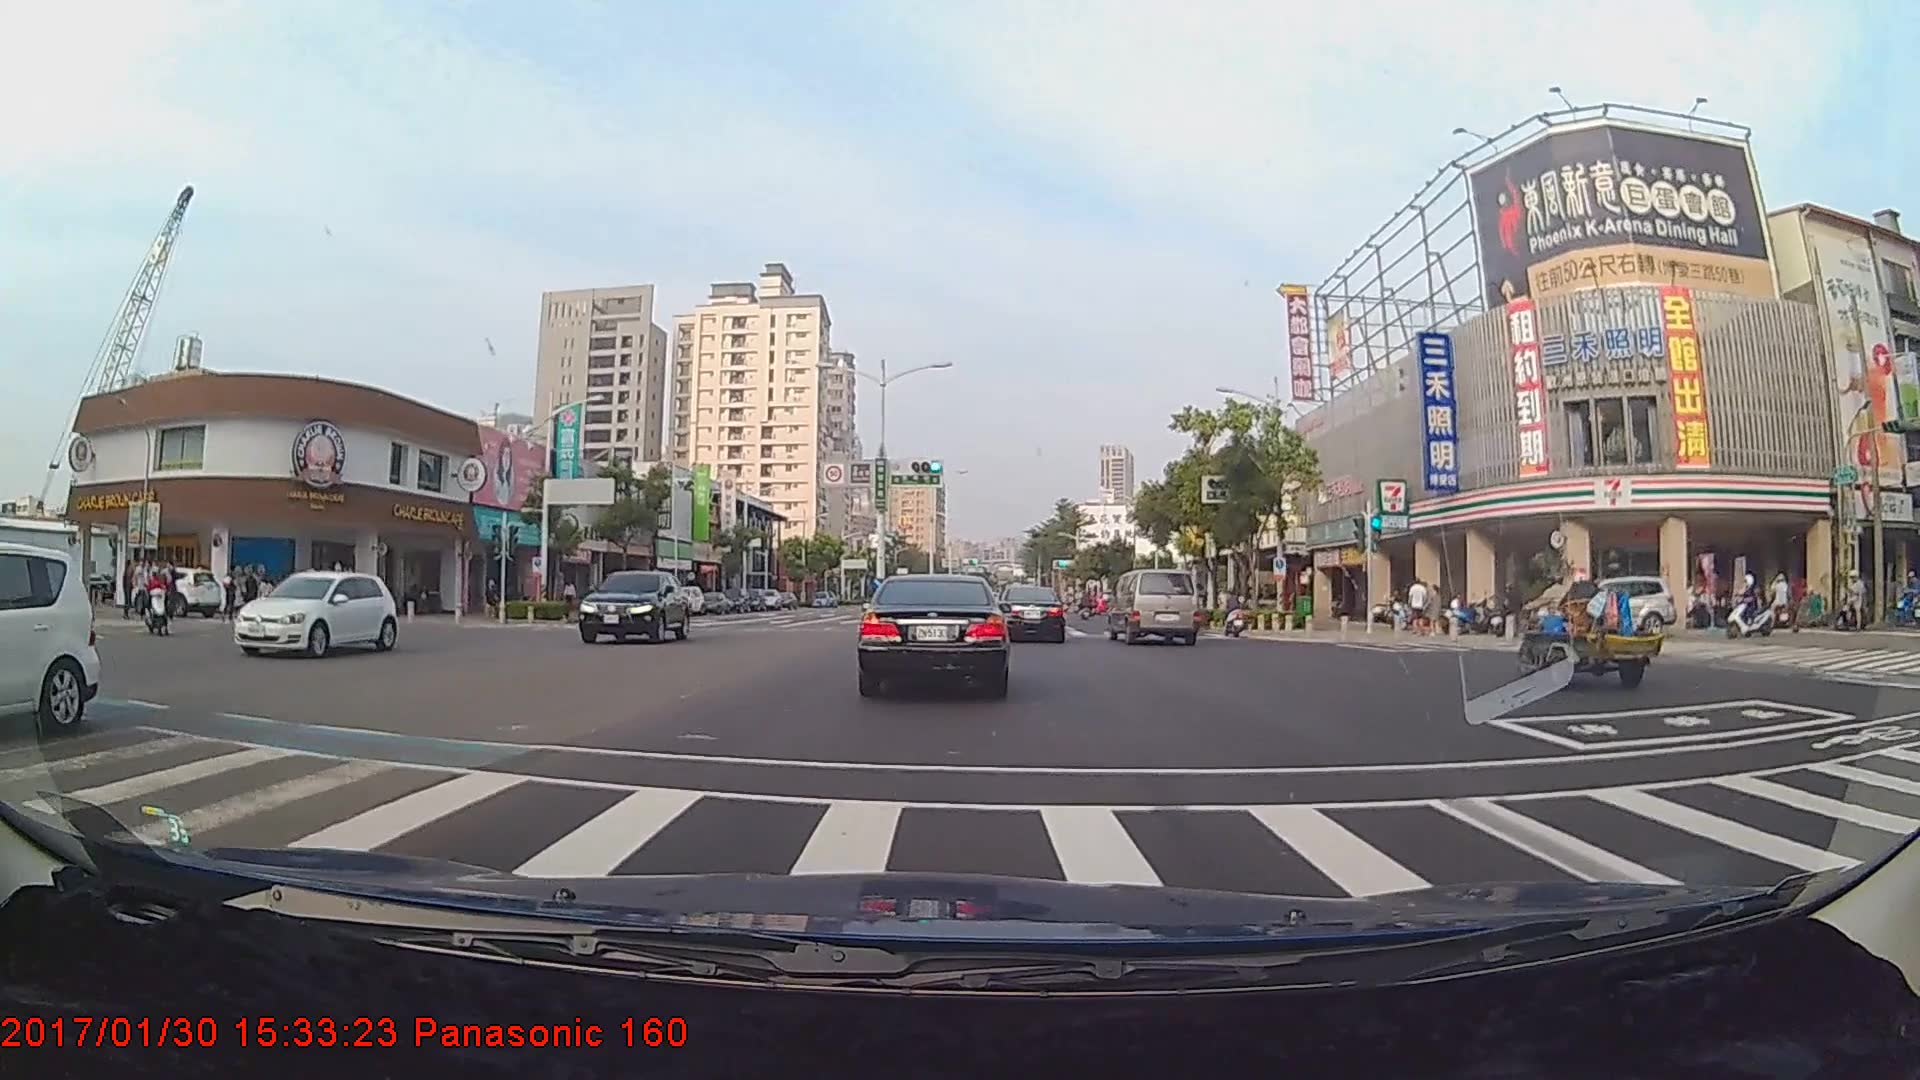pedestrian: (1407, 575, 1430, 635)
rider: (1722, 570, 1783, 642), (136, 561, 179, 637), (1216, 584, 1257, 639)
vehicle: (859, 569, 1009, 697), (0, 542, 97, 740), (233, 568, 400, 660), (1521, 574, 1673, 638), (579, 570, 688, 644), (1108, 568, 1200, 646), (994, 584, 1066, 643)
